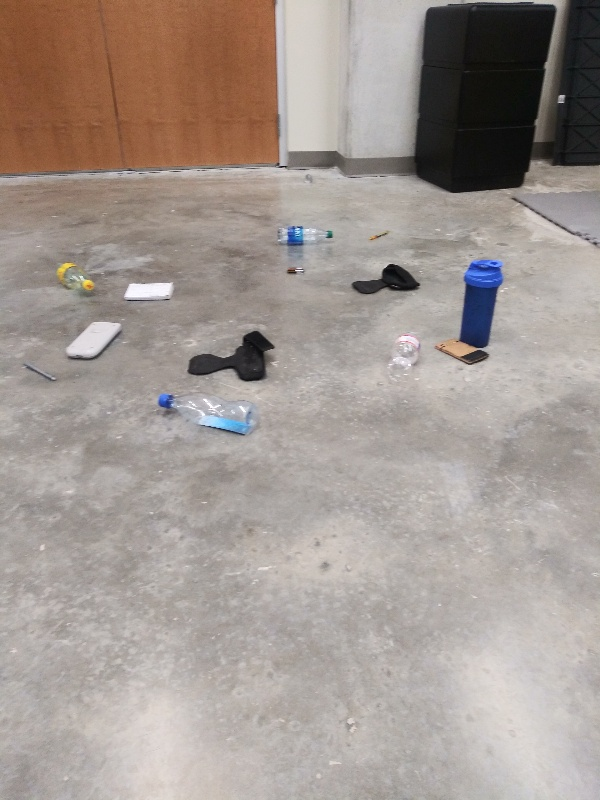bottle: (155, 387, 259, 437), (386, 325, 426, 387), (48, 259, 99, 299), (275, 221, 337, 250)
